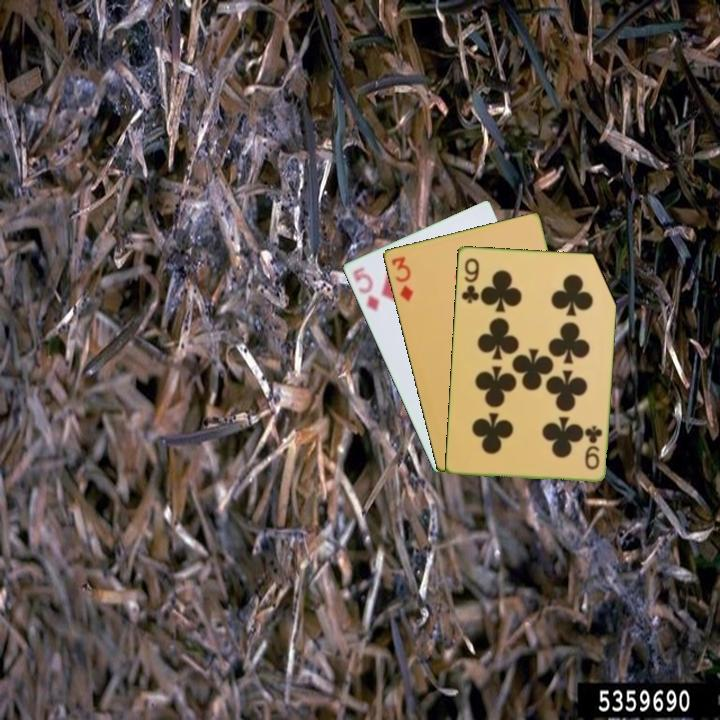3d: (387, 253, 416, 304)
5d: (349, 264, 382, 315)
9c: (458, 254, 482, 306), (581, 422, 605, 472)
